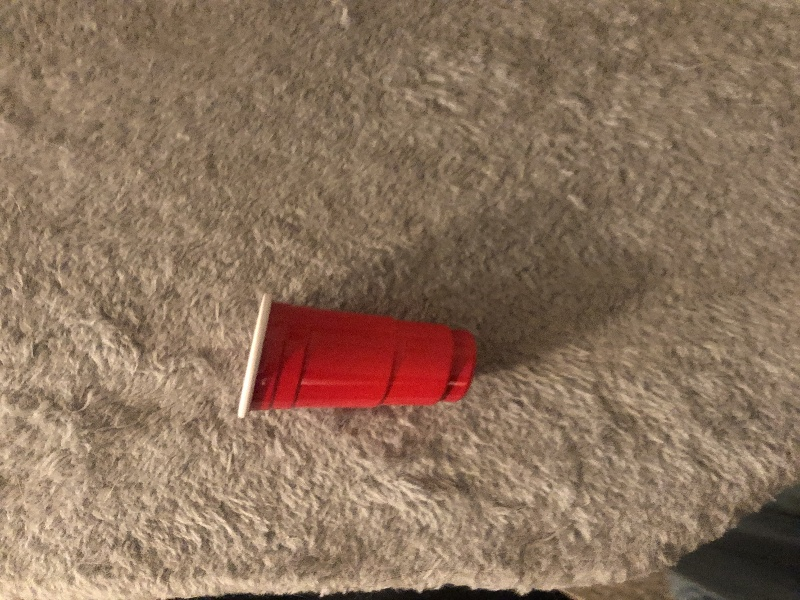plastic: (229, 289, 480, 420)
